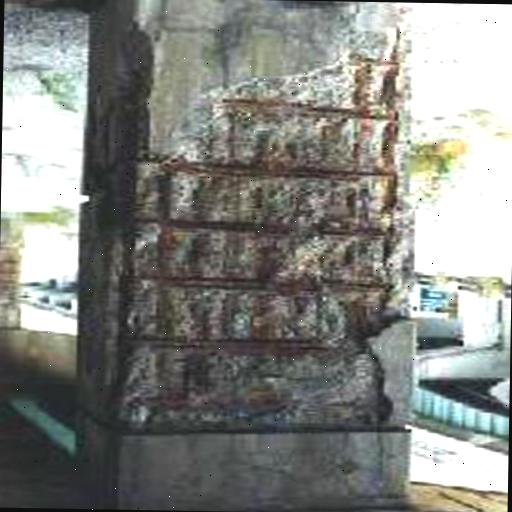spalling: (80, 30, 419, 428)
